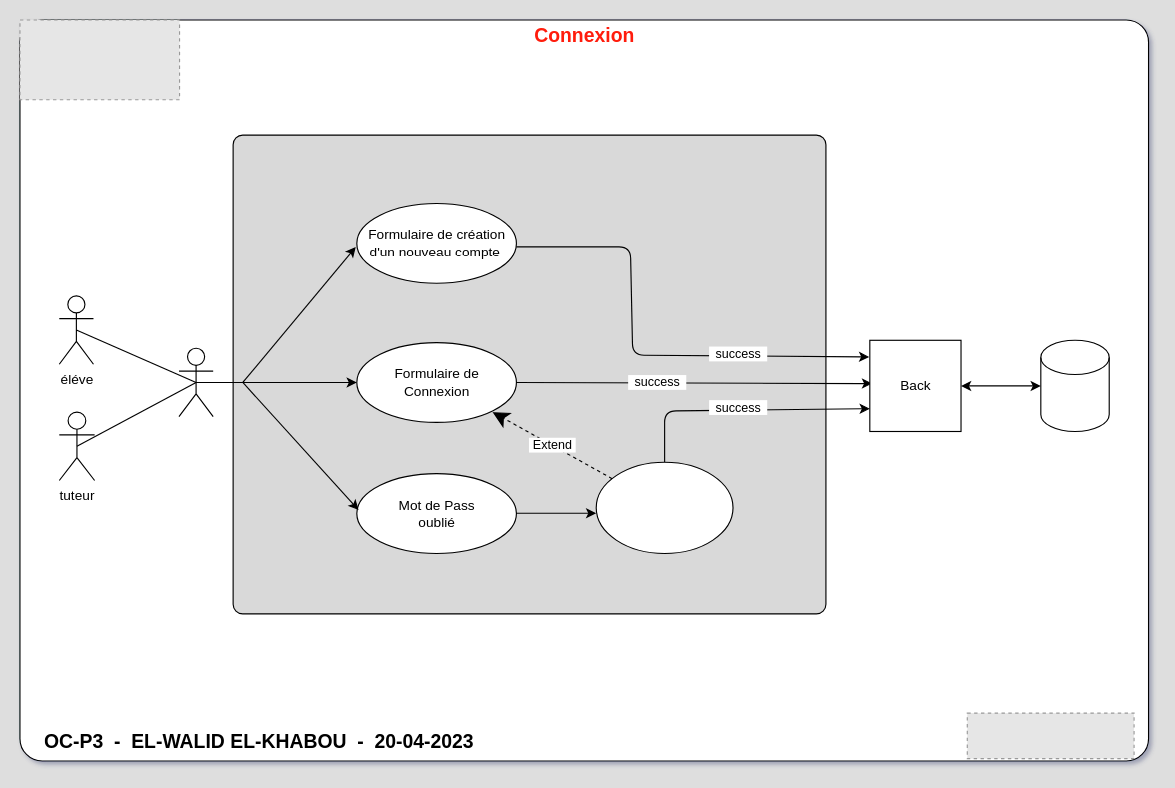
This 1175x788 diagram has some shape labels left out. Grey dashed boxes stand in for pictures. The centre of each missing label's shape, as x and y in pixels:
DB: pixel 1074 385
Reset pwd: pixel 664 507
utilisateur: pixel 195 382
